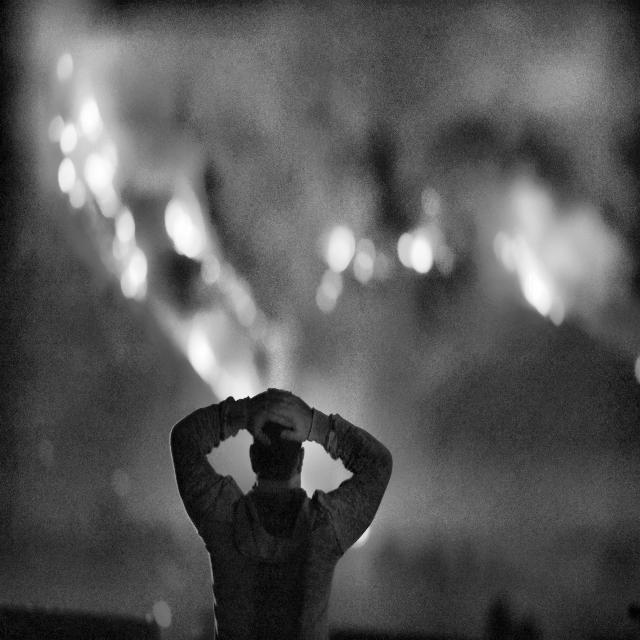fire: (50, 75, 612, 401)
